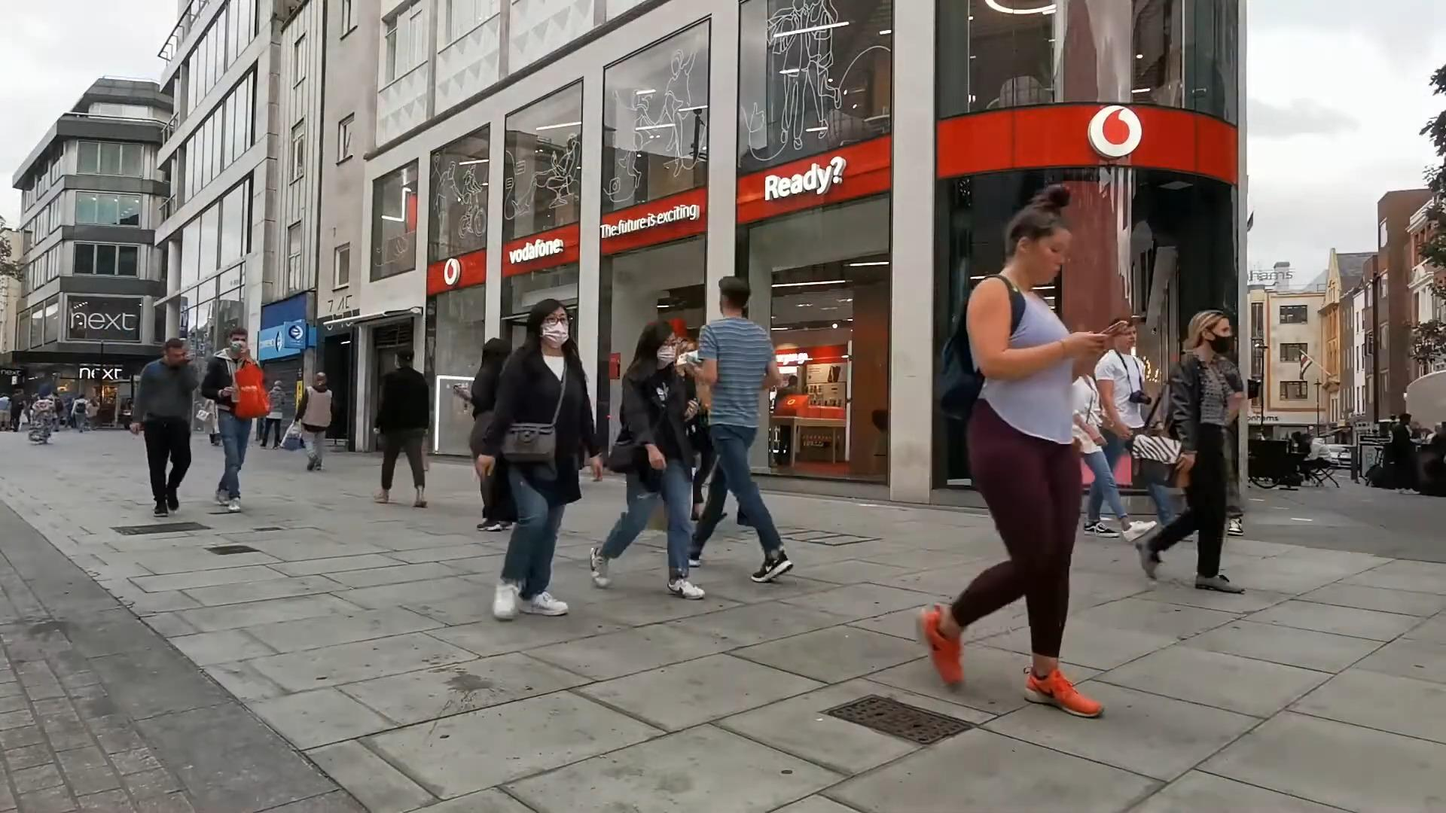no-helmet: (1005, 184, 1075, 288), (527, 299, 575, 352), (1182, 310, 1233, 357), (634, 319, 679, 371), (718, 275, 751, 318), (479, 337, 511, 373), (1110, 316, 1138, 351), (163, 338, 186, 367), (227, 326, 248, 354), (394, 345, 414, 370)
